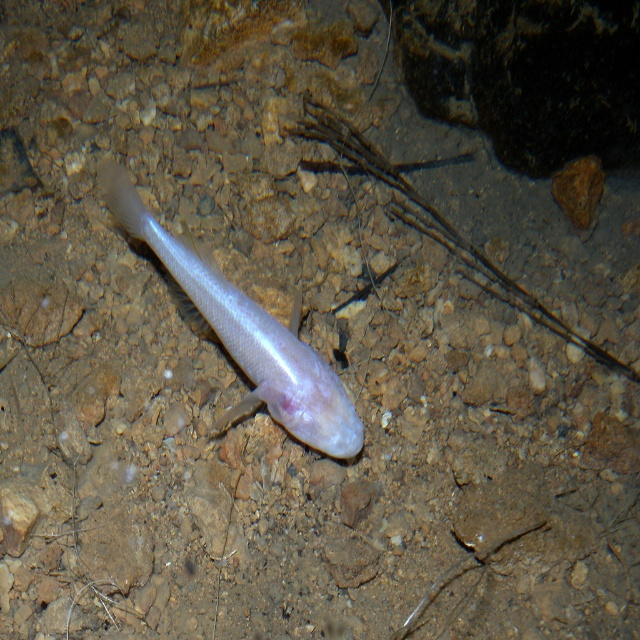Fish: (98, 158, 363, 462)
